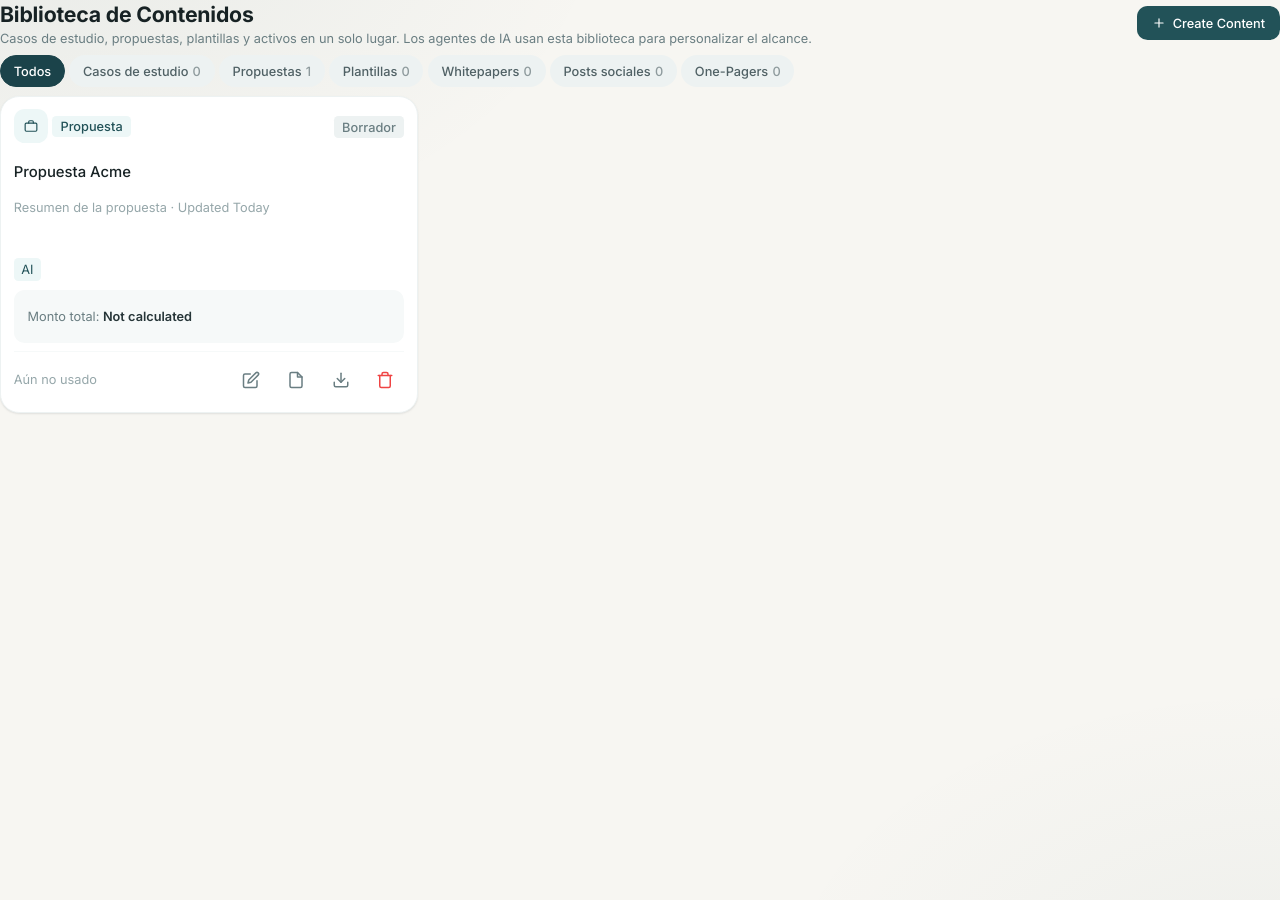
Test: ContentLibraryPage: tarjetas › clic en cualquier parte de la tarjeta abre la vista previa
Click the text "Resumen de la propuesta · Updated Today" at {"x": 142, "y": 207}, box [14,200,270,214]
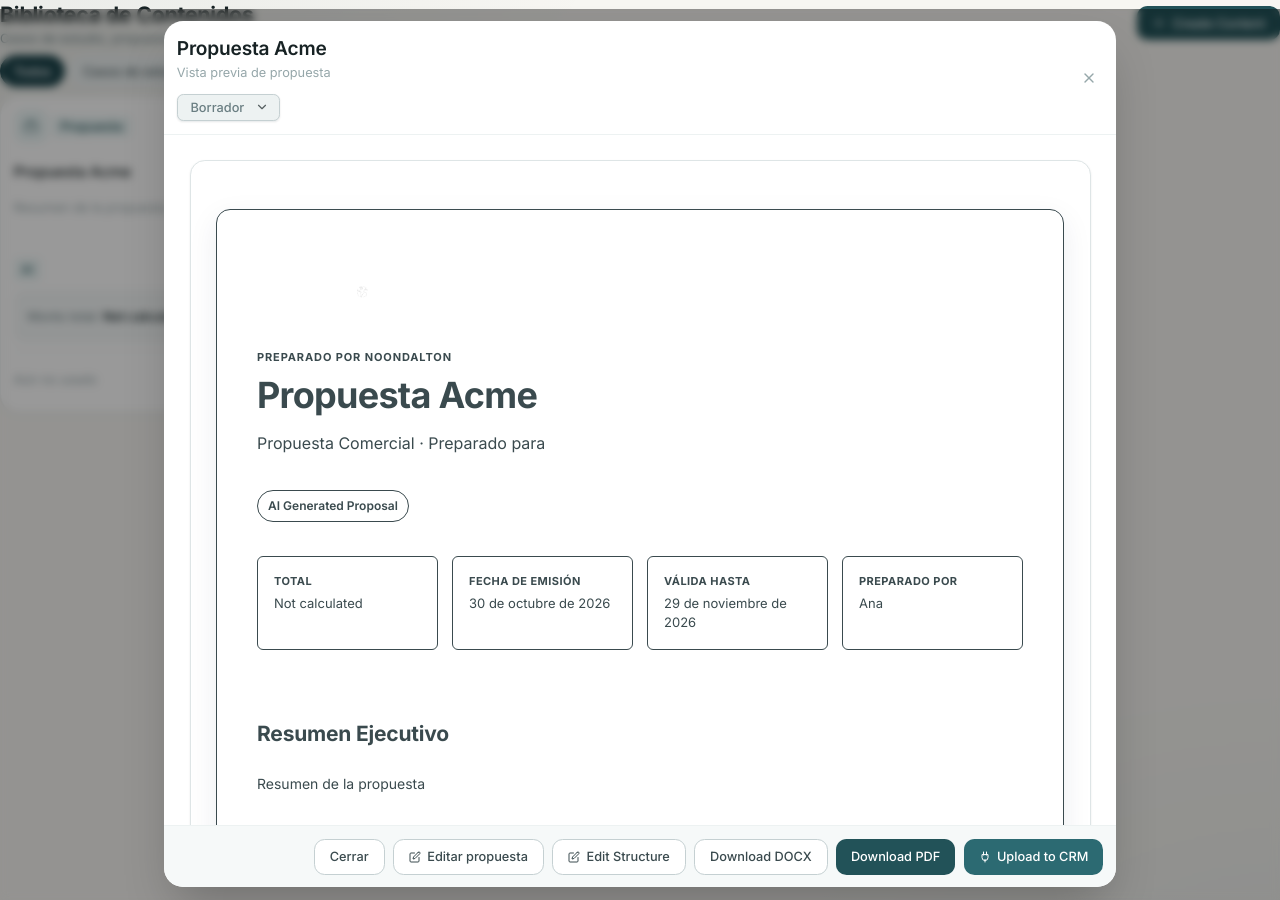
Expected: the element with test id "proposal-status-control" is shown, [177,94,280,121]
